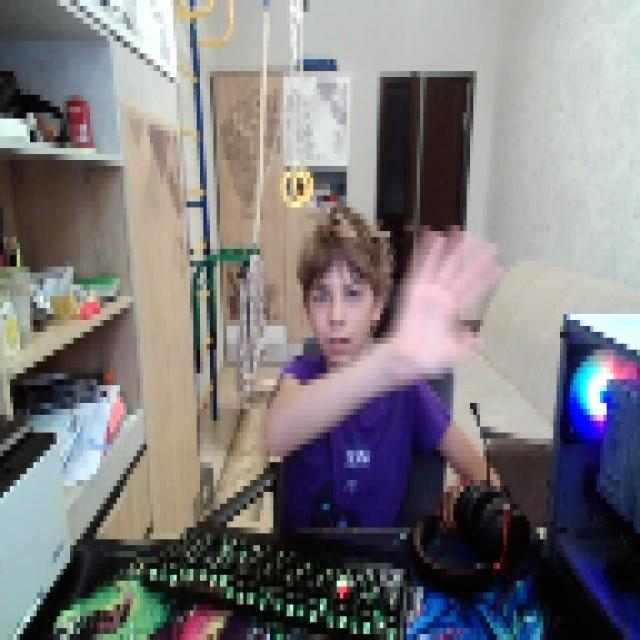hand: (394, 220, 504, 374)
